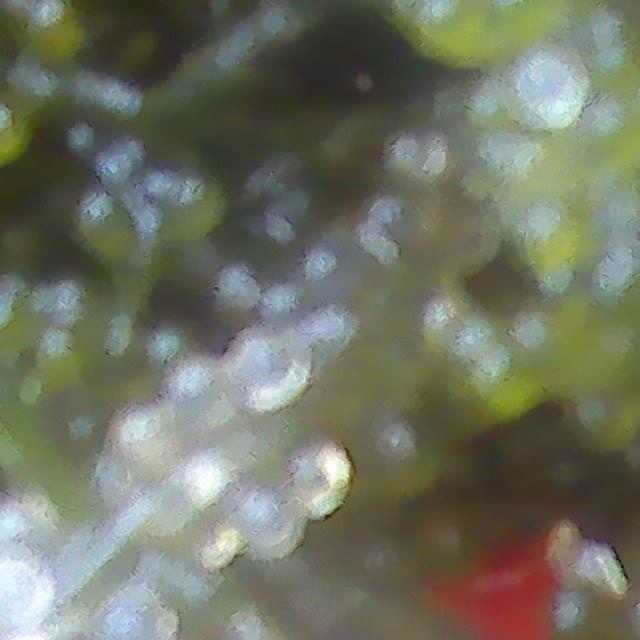SeaGrape: (222, 323, 309, 413), (165, 359, 236, 438), (282, 438, 349, 519), (515, 52, 583, 128), (107, 412, 181, 480), (238, 489, 304, 558), (0, 491, 60, 560), (22, 0, 81, 61), (0, 559, 49, 629), (188, 450, 238, 506)
